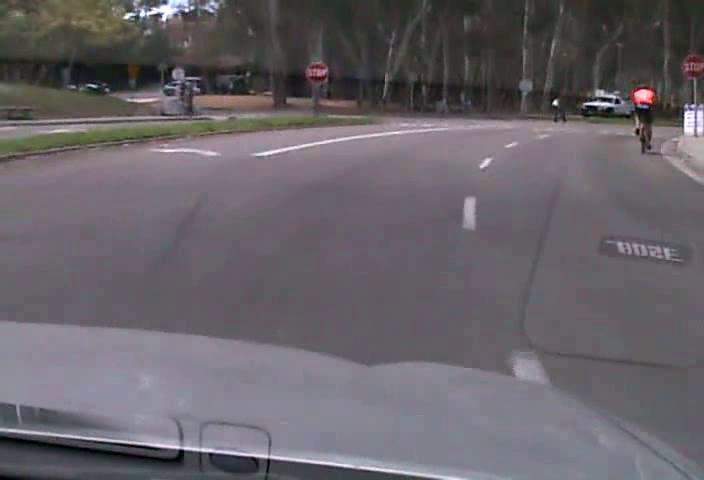stop: (304, 60, 328, 84)
